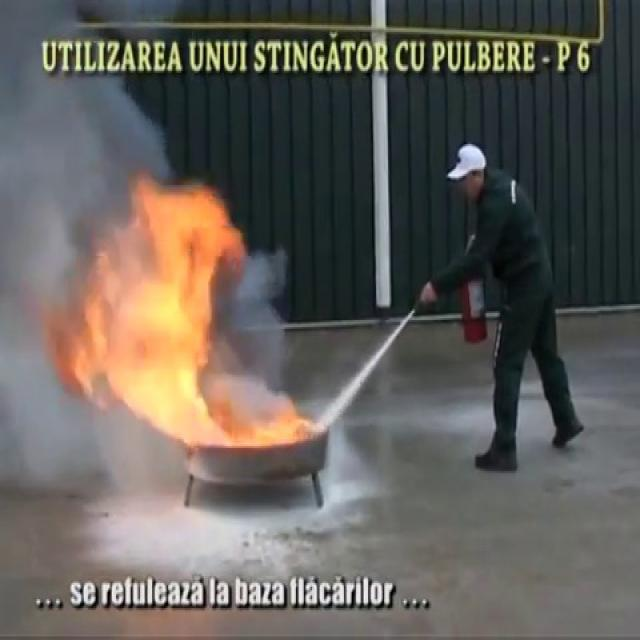Fire: (72, 183, 303, 452)
Smoke: (0, 0, 155, 466), (1, 0, 174, 274)
